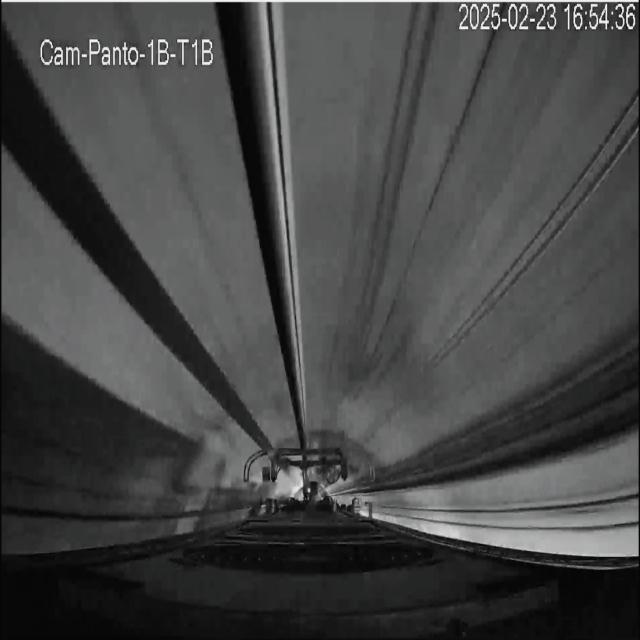Camera Stamp: (35, 29, 221, 70)
Date Stamp: (459, 3, 636, 33)
No - Spark: (245, 444, 352, 503)
